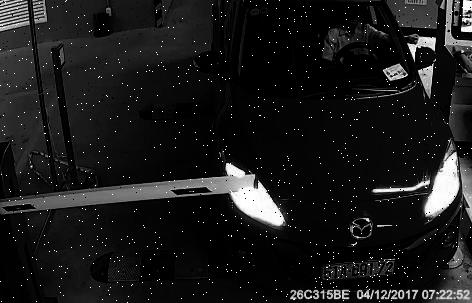License-plate: (317, 250, 410, 289)
